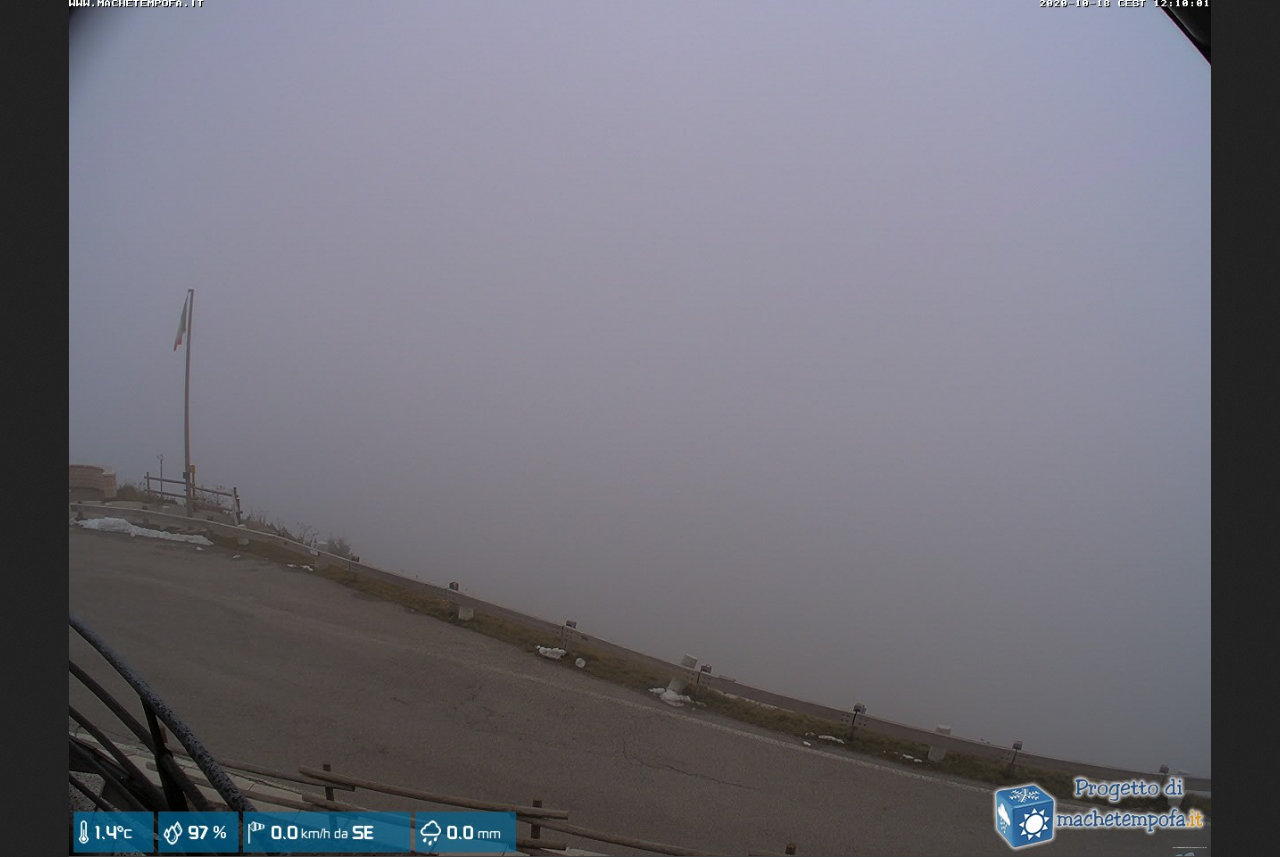no: (170, 295, 191, 354)
